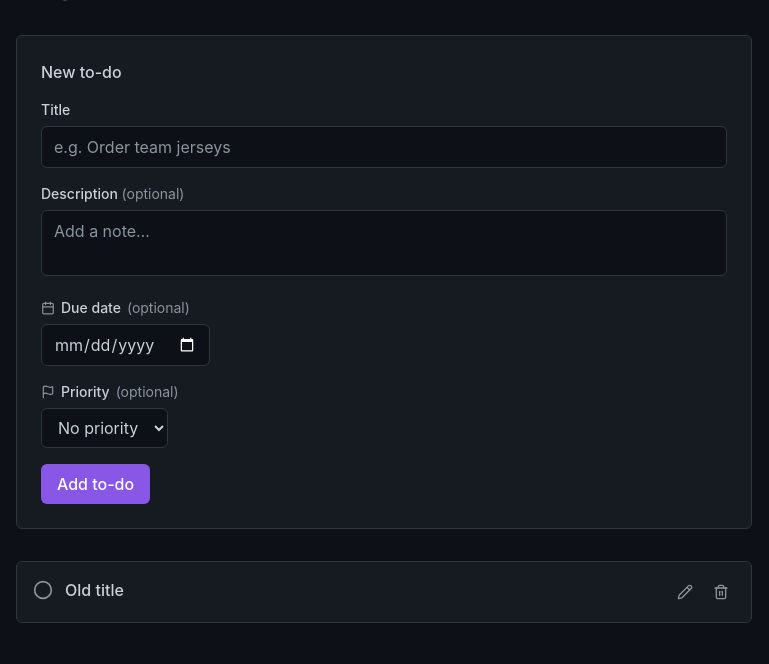
Test: ListDetailView › edits an item through the inline editor
(page scrolled)
Click the button named "Edit Old title" at [685, 592], box 671,578 -> 699,606
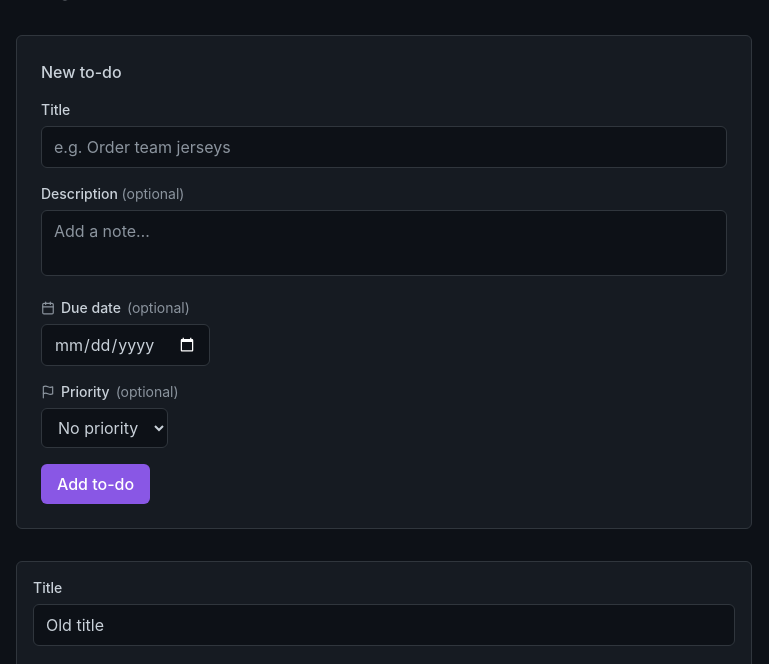
Replace the text in the field with id "item-title-i1" with "New title" at [384, 625], box 33,604 -> 735,646
(page scrolled)
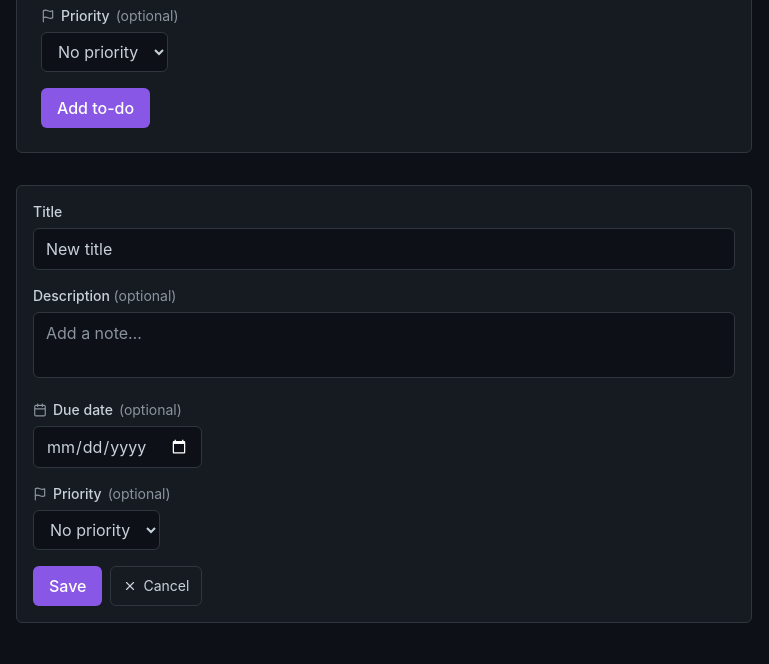
Submit the 2nd form, box 33,202 -> 735,606
(page scrolled)
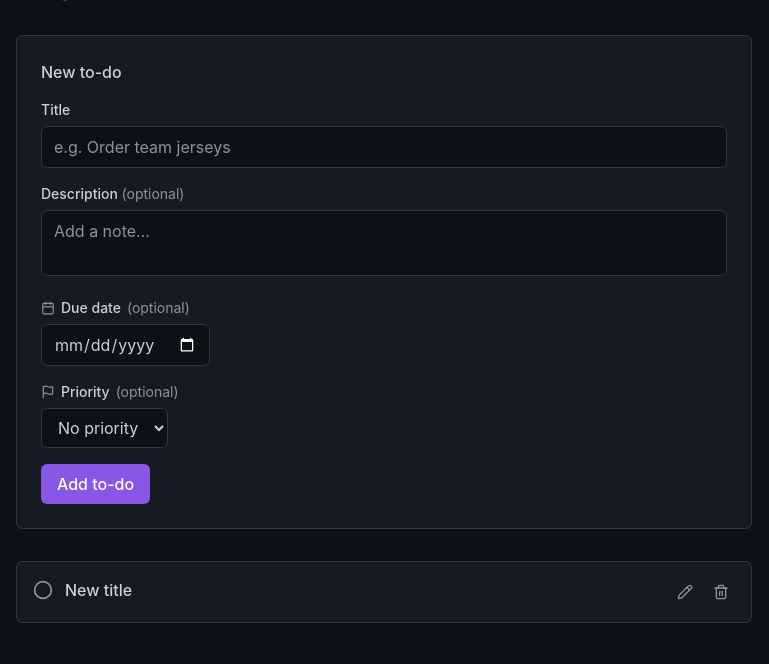
Expected: the text "Old title" is not shown
Now the text "New title" is shown, box 65,580 -> 132,600
